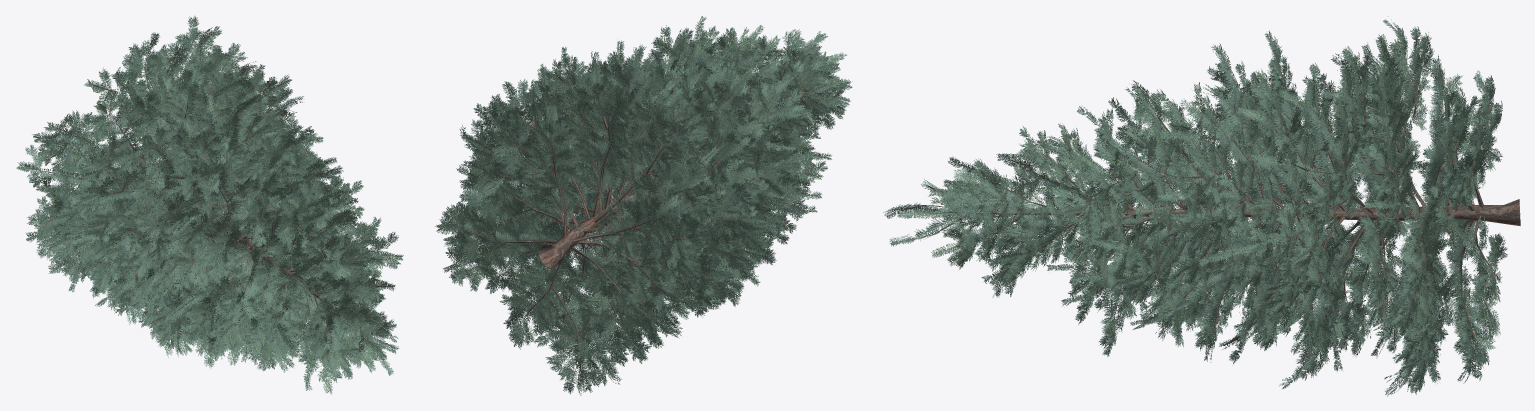
Rendered from conifer.fbx.
3 views of the same model, side by side, from view 1: azimuth 30°, elevation 25°; view 2: azimuth 150°, elevation 25°; view 3: azimuth 270°, elevation 25° (orthographic). The views are drawn at different scales.
Visible parts, largest first — view 1: conifer; view 2: conifer; view 3: conifer.
Boxes of the visible parts, bbox=[...] form: conifer: bbox=[16, 16, 403, 394]; conifer: bbox=[435, 16, 852, 395]; conifer: bbox=[883, 16, 1520, 396].
Size of the model in its own units: 3.86 by 4.02 by 6.49.
